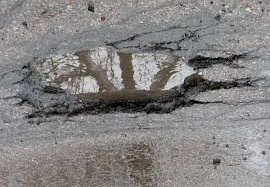pothole: (19, 33, 243, 126)
